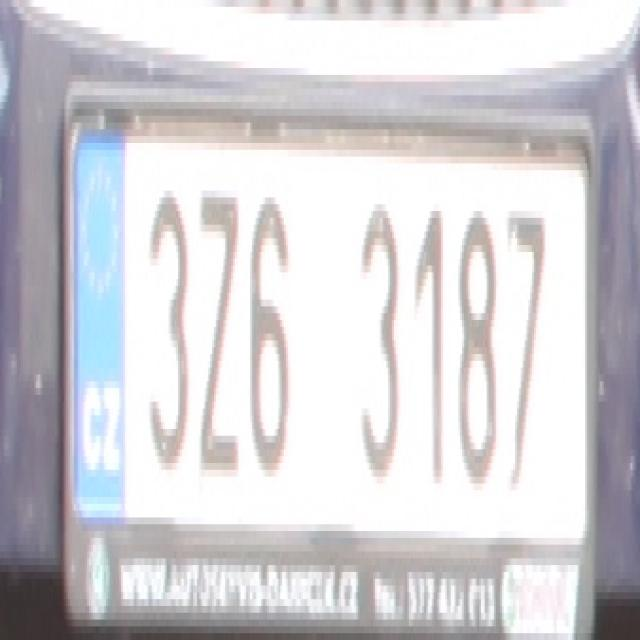1: (415, 191, 445, 484)
3: (356, 198, 400, 490), (146, 177, 186, 463)
6: (244, 190, 290, 477)
7: (506, 191, 544, 497)
8: (454, 204, 498, 477)
Z: (193, 170, 237, 463)
